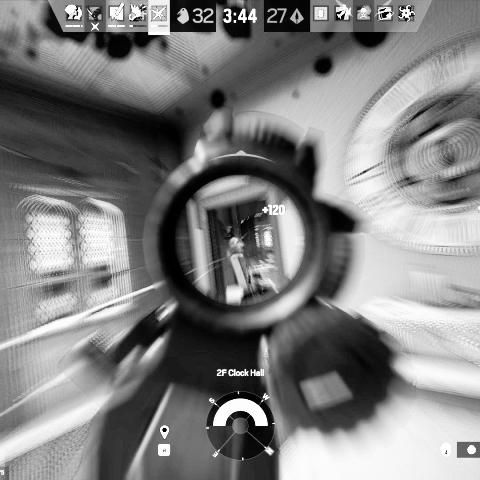Character: (239, 268, 279, 304)
Friend_label: (467, 205, 480, 221)
Head: (249, 271, 265, 292)
